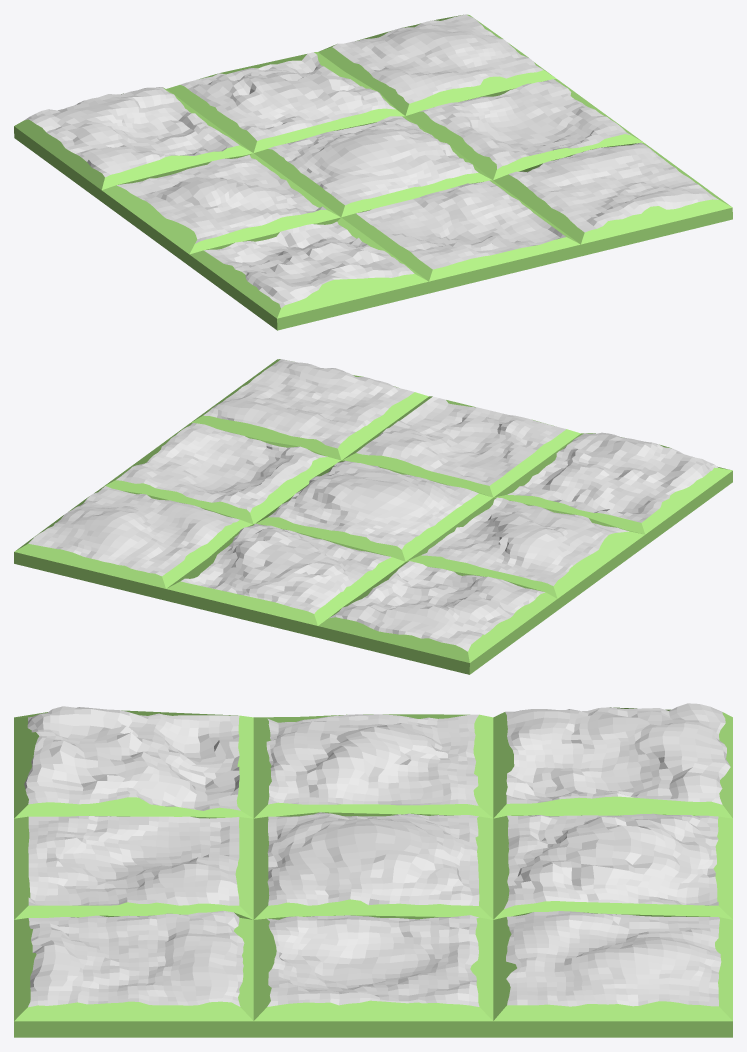
Rendered from CubeFaceBasedSculpted (1).fbx.
3 renders of one model, top to bottom at view 1: azimuth 30°, elevation 25°; view 2: azimuth 150°, elevation 25°; view 3: azimuth 270°, elevation 25°, orthographic. The views are drawn at different scales.
Visible parts, largest first — view 1: Face; view 2: Face; view 3: Face.
Boxes of the visible parts, x1,y1,x2,y2 form: Face: [14, 14, 732, 330]; Face: [14, 359, 732, 674]; Face: [14, 703, 732, 1037].
Bounding box in the file's own units: 4002 × 287 × 4001.
